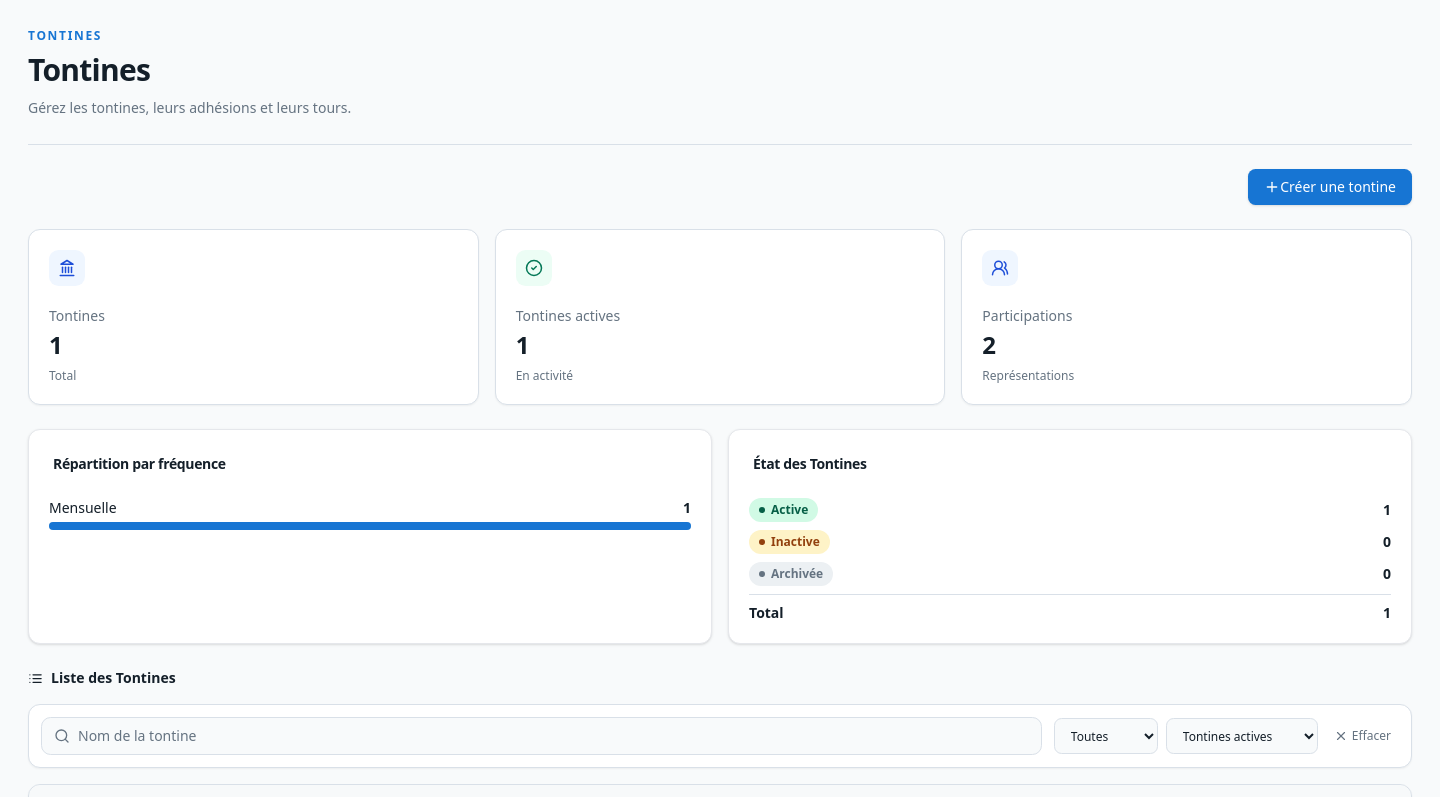
Scenario: Tontines — actions de gestion dans le « ⋯ » de la ligne › le « ⋯ » de la ligne propose Modifier, le cycle de vie et Supprimer (en rouge), dans cet ordre — jamais « Désactiver »
Step 1. Type "Coopérative Sutura" into the field with placeholder "Nom de la tontine" → [553, 736], box [78,726,1029,746]
(page scrolled)
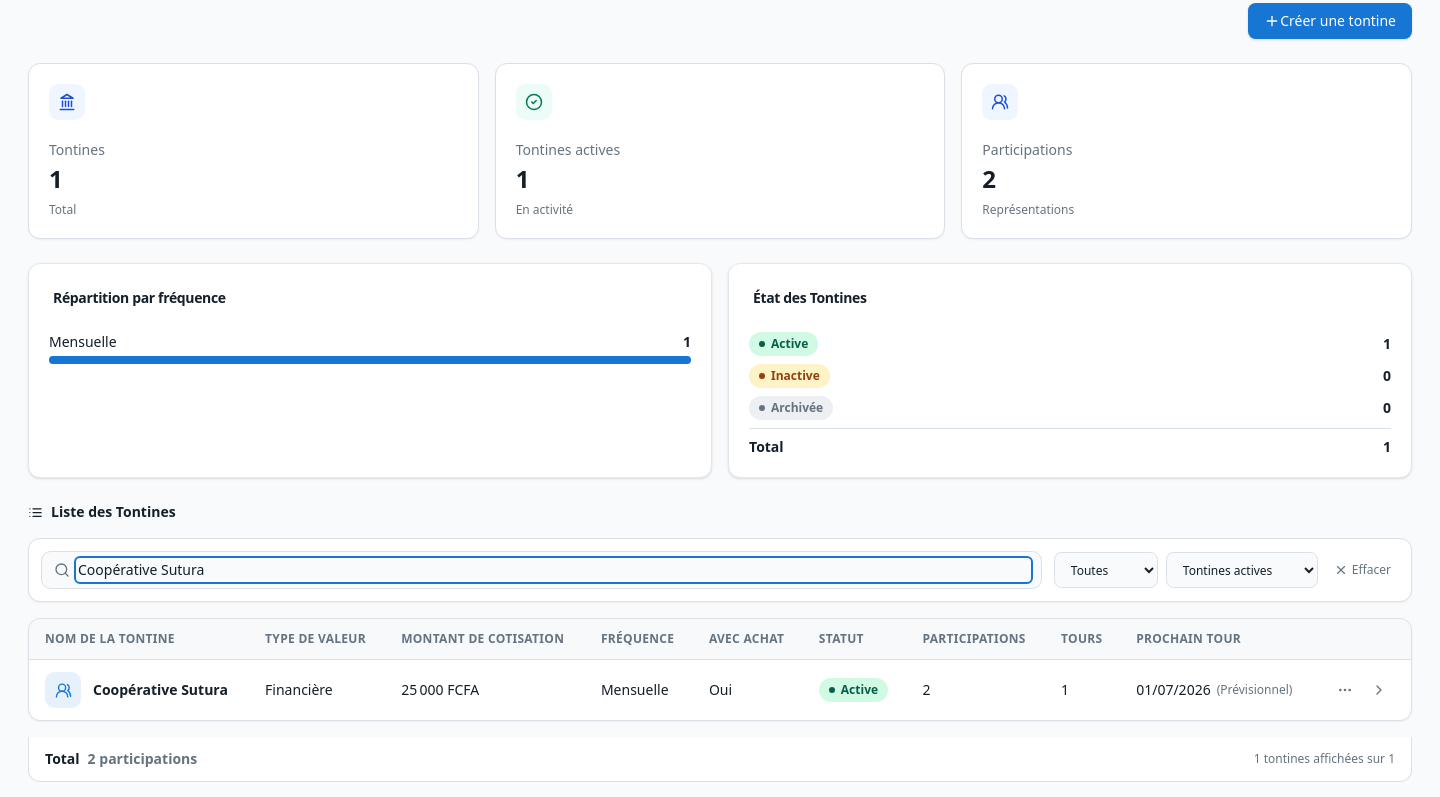
Step 2. Click the button named "Actions — Coopérative Sutura" → [1345, 690], box [1329,674,1361,706]
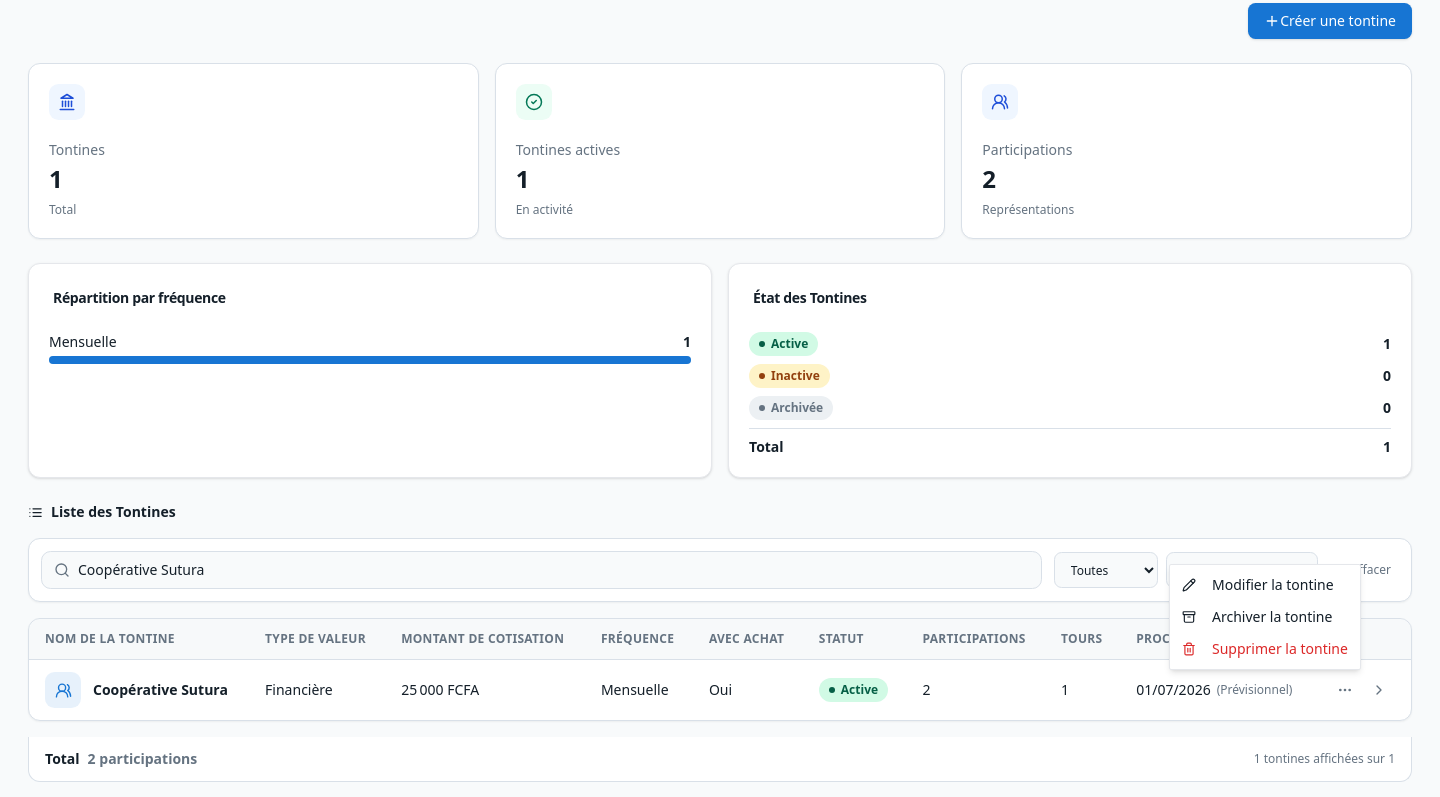
Now the menu items read "Modifier la tontine", "Archiver la tontine", "Supprimer la tontine", in this order, box [1182,575,1334,594]; [1182,607,1332,626]; [1182,639,1348,658]
